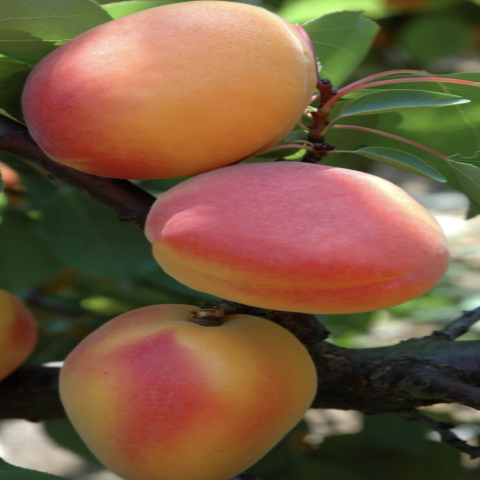mango: (3, 1, 336, 183), (38, 285, 338, 480), (141, 144, 451, 326)
